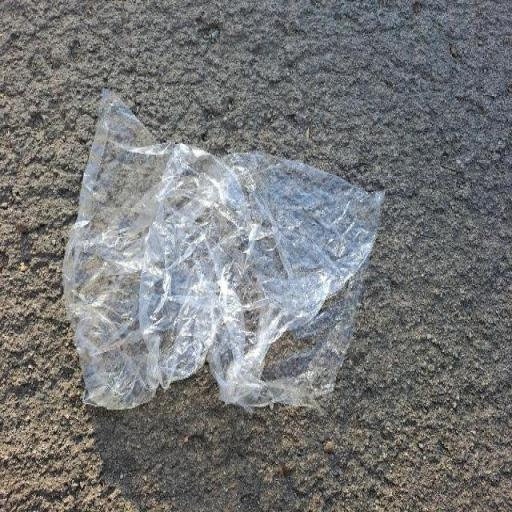plastic-bag: (60, 84, 389, 418)
